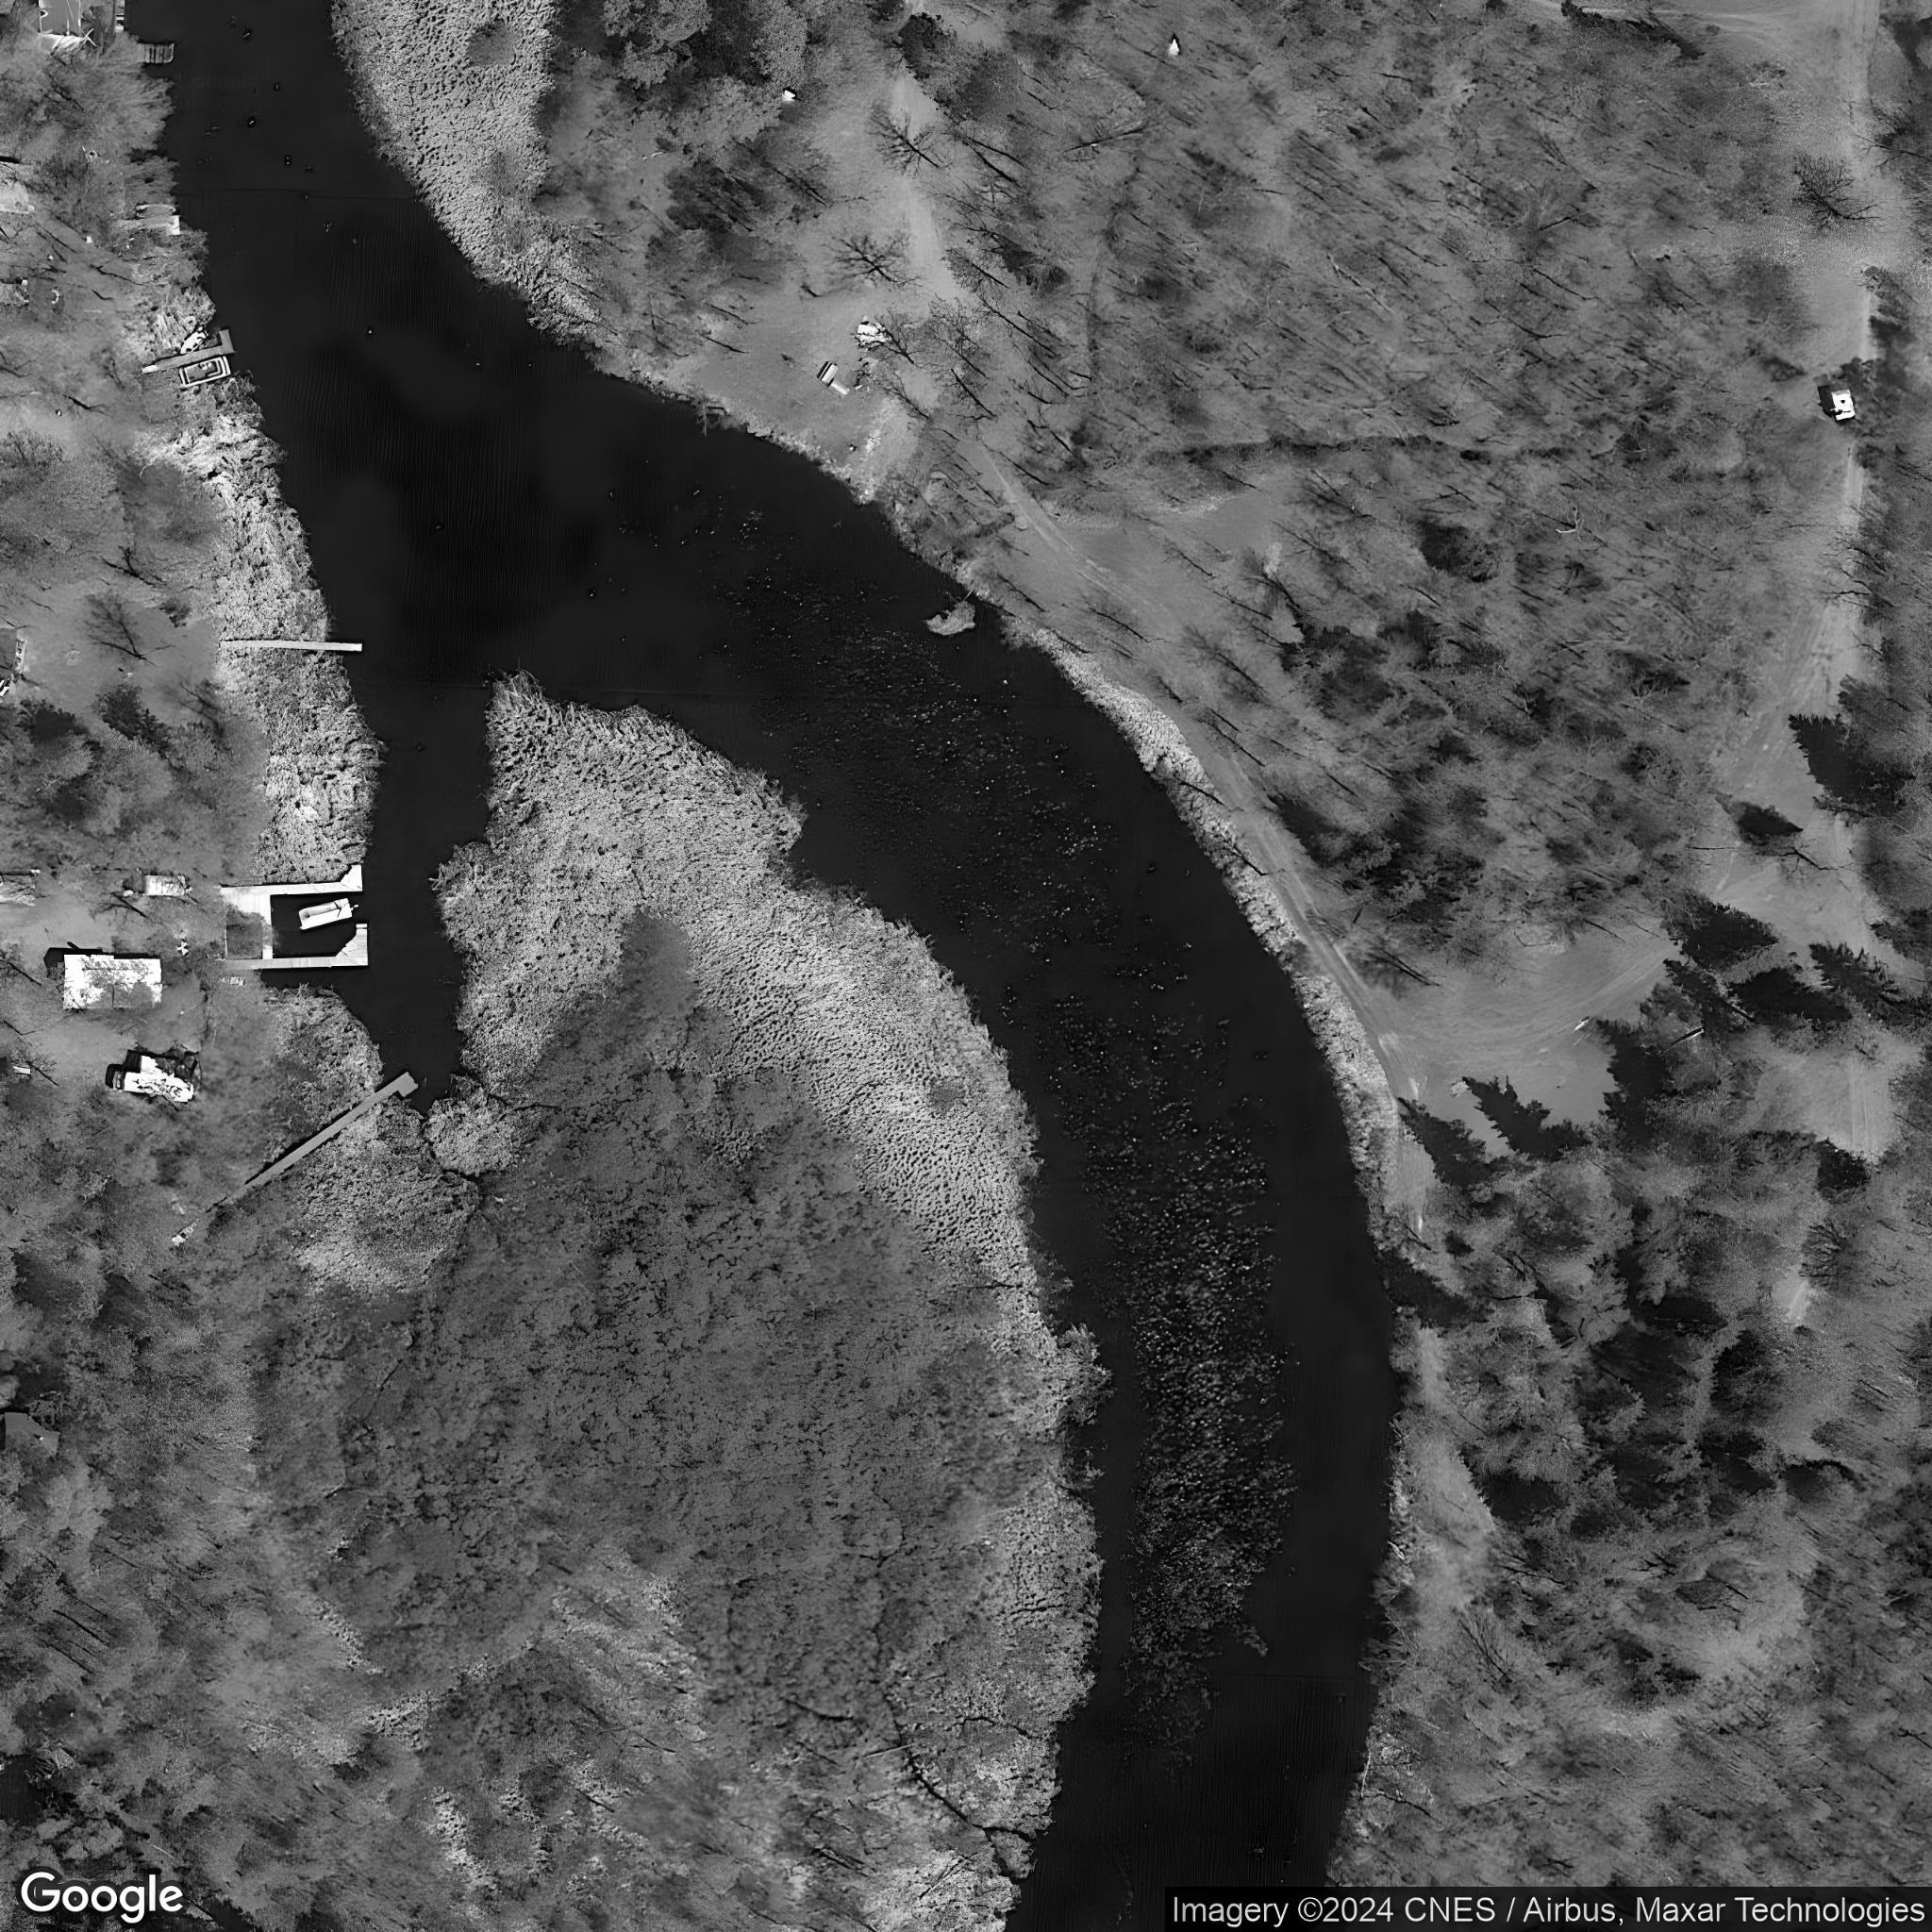House: (62, 954, 163, 1008)
Trailer: (111, 1054, 195, 1100)
